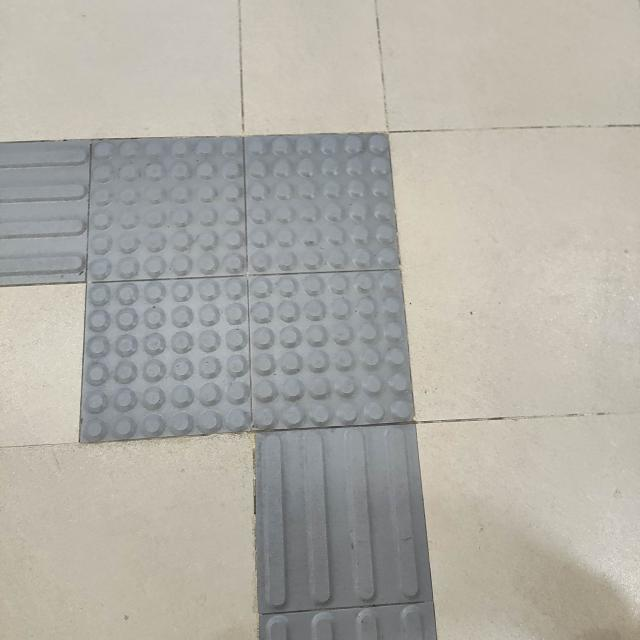kiri: (0, 95, 480, 512)
